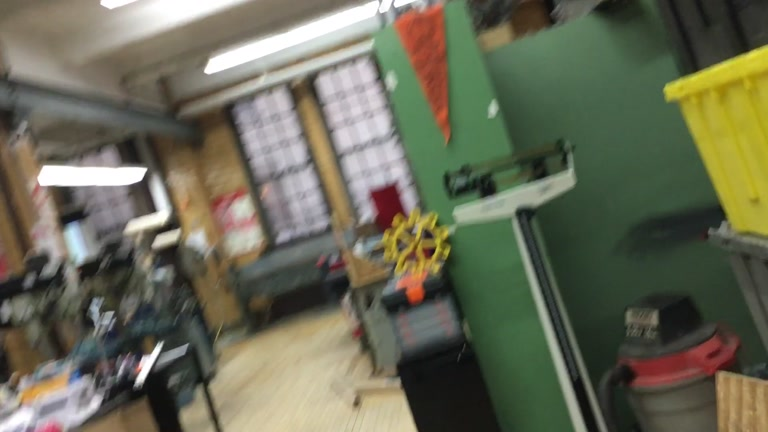gear: (381, 206, 453, 280)
